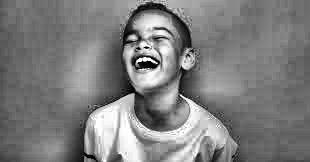happy: (114, 0, 216, 129)
